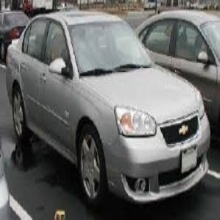no damage: (6, 9, 211, 206), (136, 9, 220, 103)
